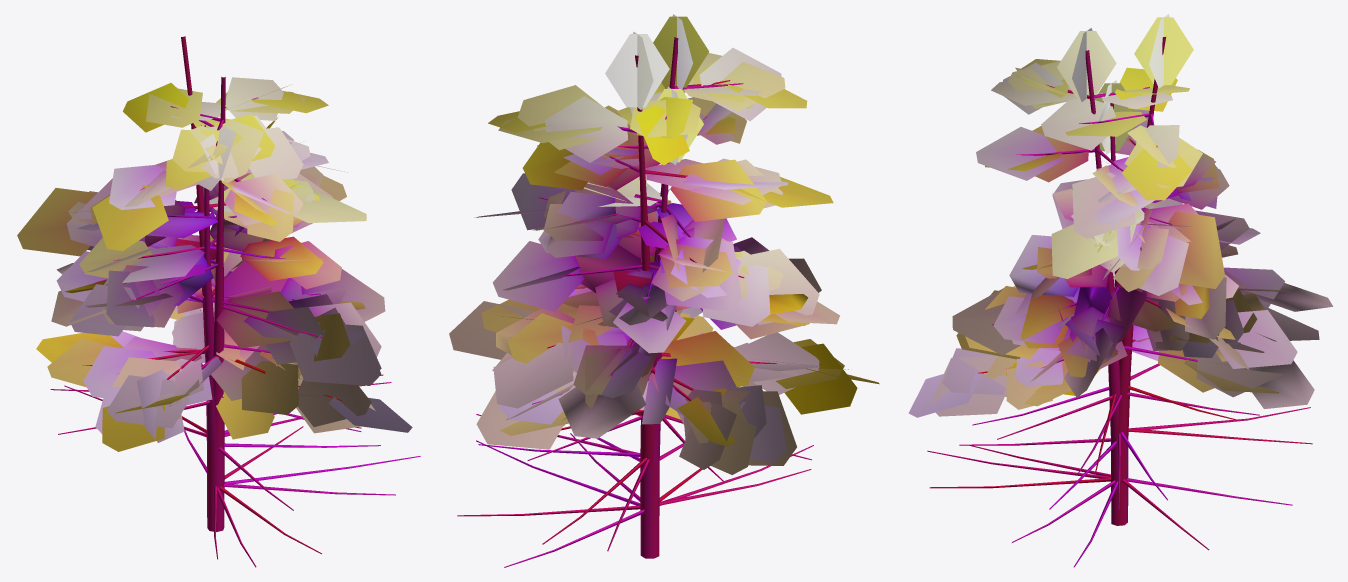
The model's file is sapling_hemlock.glb.
The picture shows the model from 3 angles, left to right: view 1: azimuth 30°, elevation 25°; view 2: azimuth 150°, elevation 25°; view 3: azimuth 270°, elevation 25°; orthographic projection. The views are drawn at different scales.
Parts seen in each view (by area): view 1: sapling_hemlock_v1_lod0, sapling_hemlock_v0_lod0, sapling_hemlock_v2_lod0; view 2: sapling_hemlock_v0_lod0, sapling_hemlock_v1_lod0, sapling_hemlock_v2_lod0; view 3: sapling_hemlock_v0_lod0, sapling_hemlock_v1_lod0, sapling_hemlock_v2_lod0.
Boxes of the visible parts, <box> form: sapling_hemlock_v1_lod0: <box>58,77,395,553</box>; sapling_hemlock_v0_lod0: <box>17,36,420,567</box>; sapling_hemlock_v2_lod0: <box>50,125,385,559</box>; sapling_hemlock_v0_lod0: <box>474,32,839,567</box>; sapling_hemlock_v1_lod0: <box>476,14,879,558</box>; sapling_hemlock_v2_lod0: <box>449,86,819,558</box>; sapling_hemlock_v0_lod0: <box>908,14,1333,567</box>; sapling_hemlock_v1_lod0: <box>929,28,1319,542</box>; sapling_hemlock_v2_lod0: <box>965,80,1312,550</box>.
Size of what is drawn, in the model's own units: 2.58 by 3.5 by 2.7.
